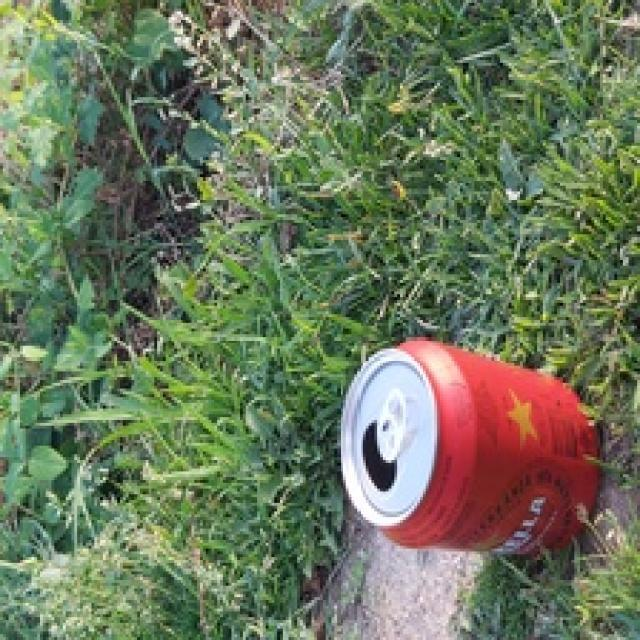recyclable: (341, 334, 602, 562)
